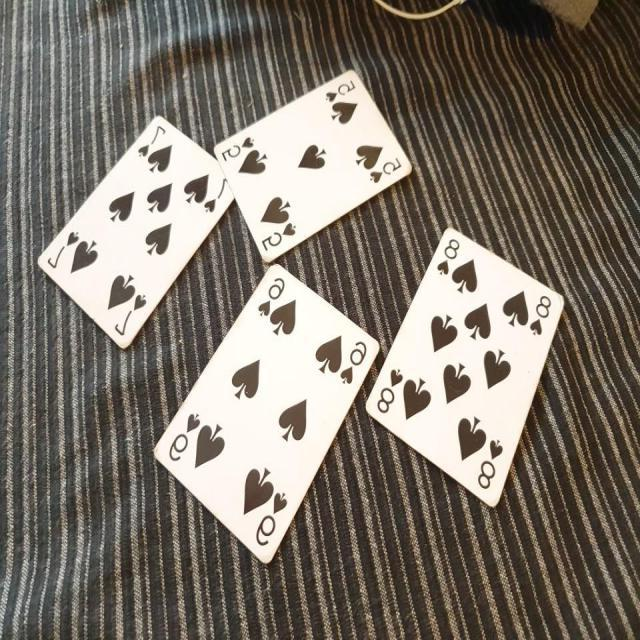5 of spades: (208, 64, 418, 278)
6 of spades: (152, 254, 386, 572)
7 of spades: (27, 102, 246, 358)
8 of spades: (358, 216, 572, 524)
